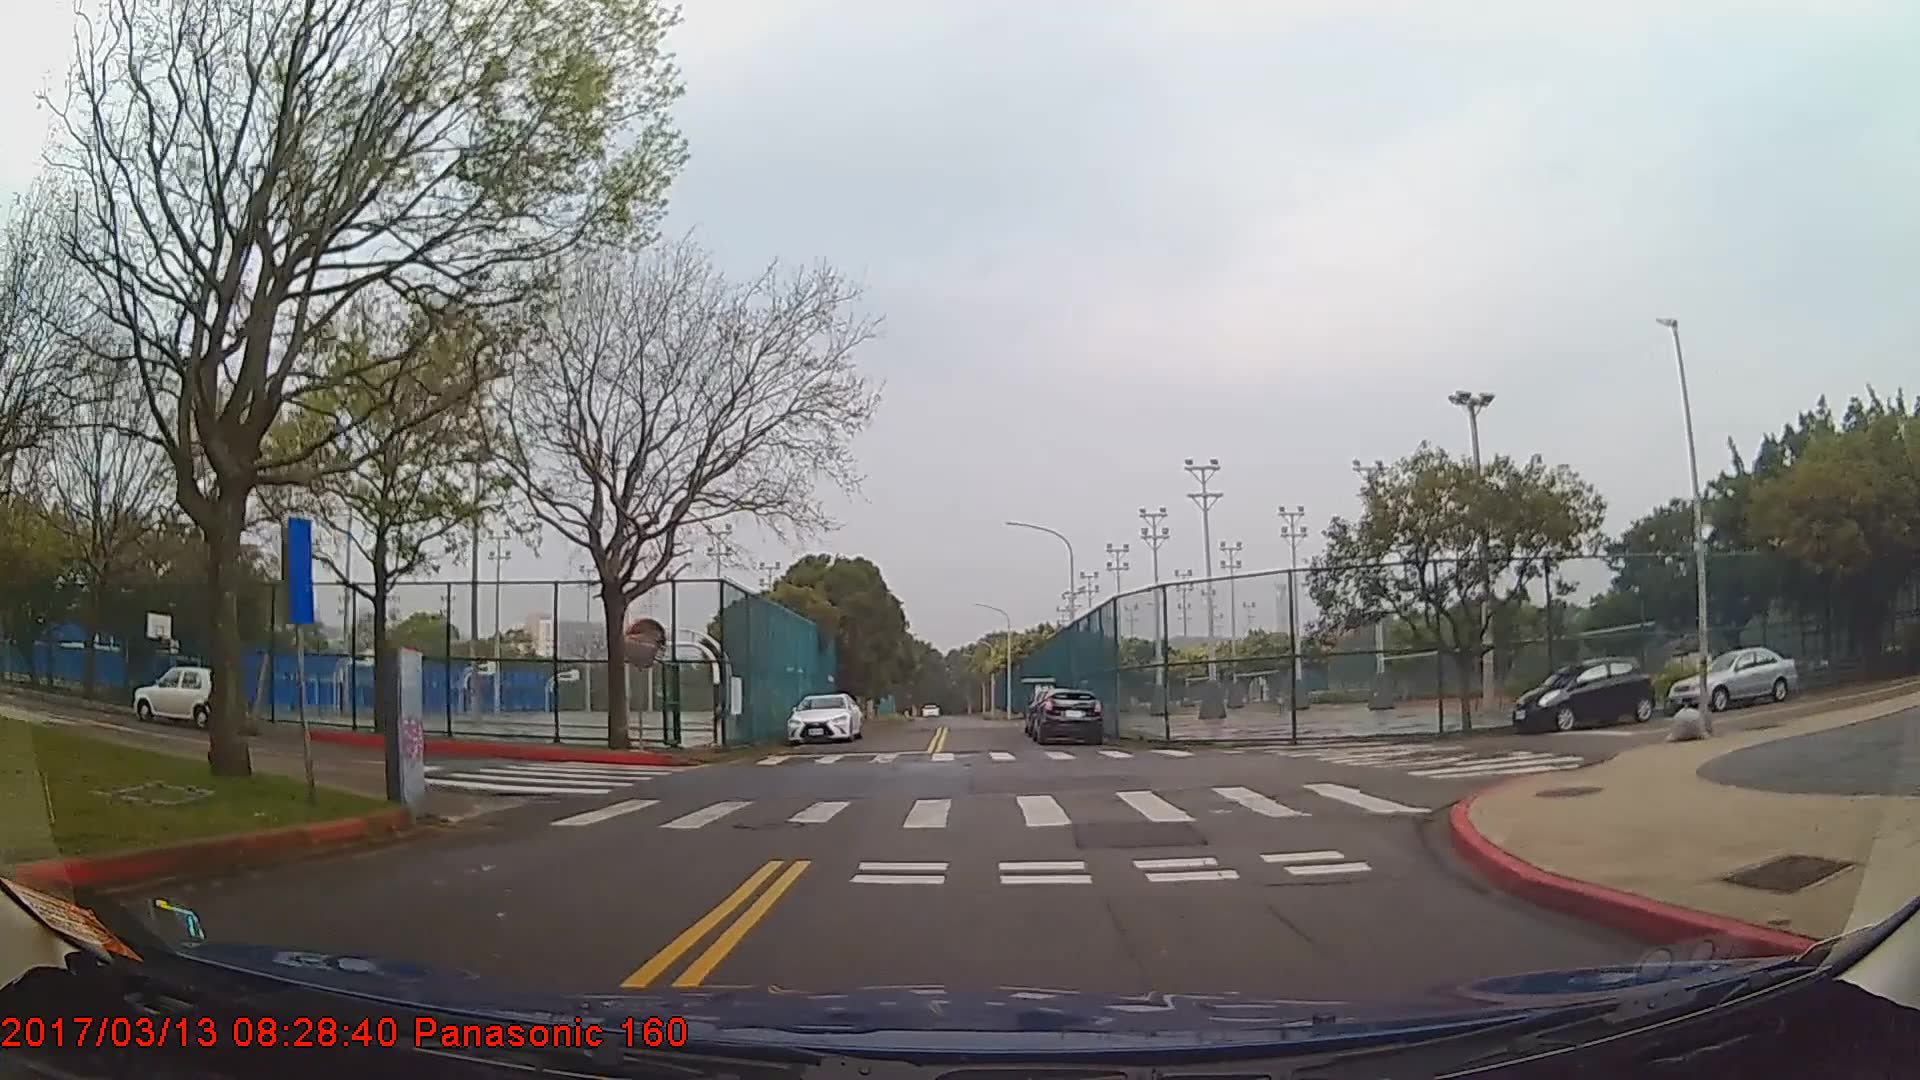vehicle: (1510, 654, 1654, 731), (1668, 644, 1800, 709), (132, 663, 243, 729), (1029, 688, 1102, 746), (785, 690, 861, 742)
